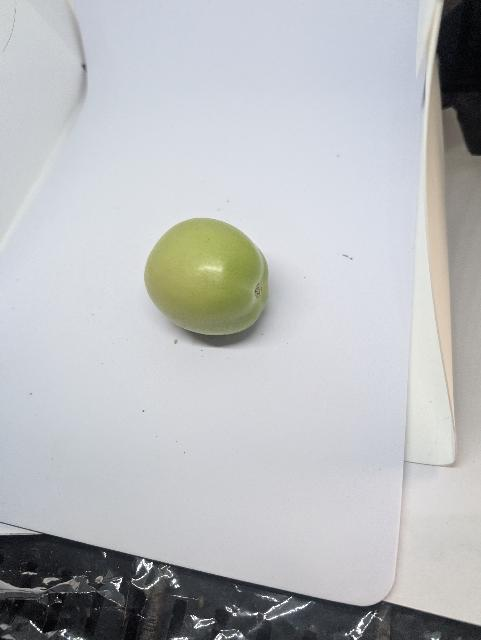green: (142, 215, 272, 337)
